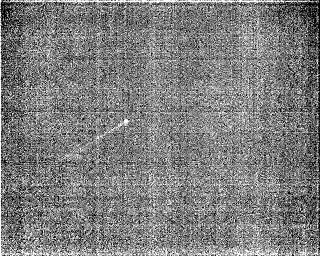AIRPLANE: (64, 118, 130, 154)
